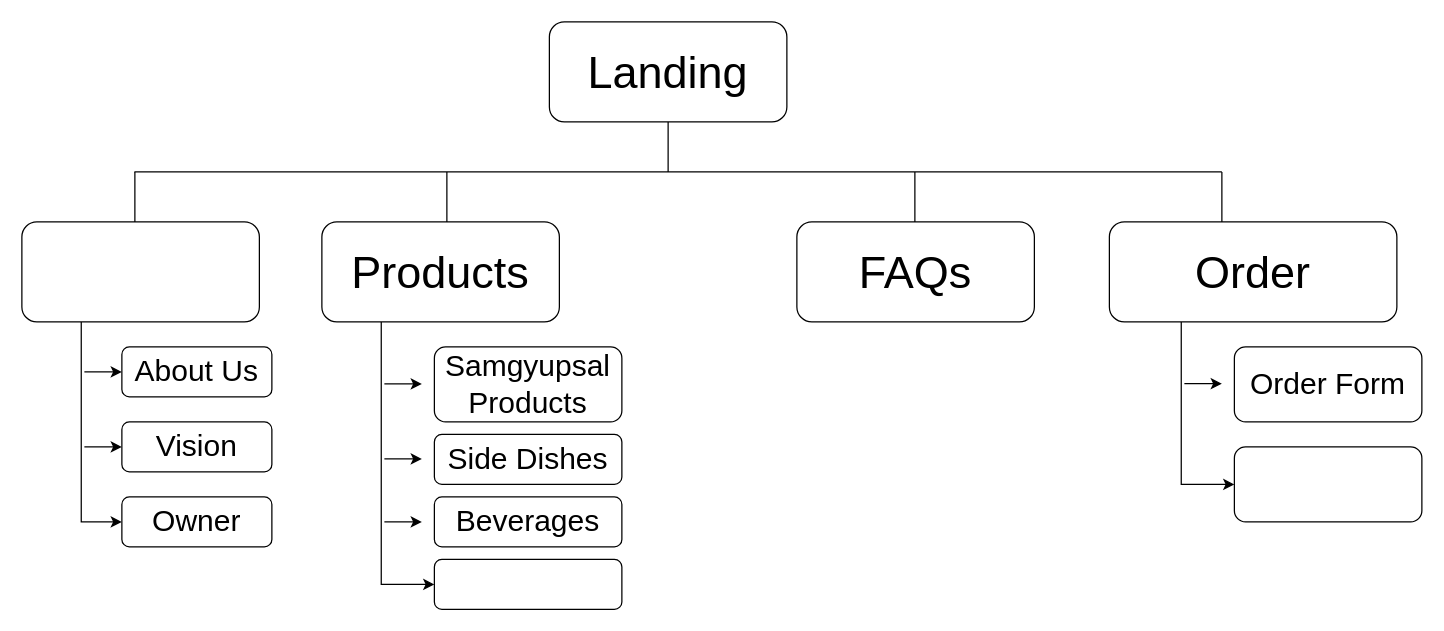
Image size: 1444x631. Some labels were removed from this diagram. Here are the shapes that lost their labels. From the top down, the box of each, then its label:
(21, 221, 259, 322): About
(1233, 446, 1422, 522): Feedback
(433, 558, 622, 609): Other Products
